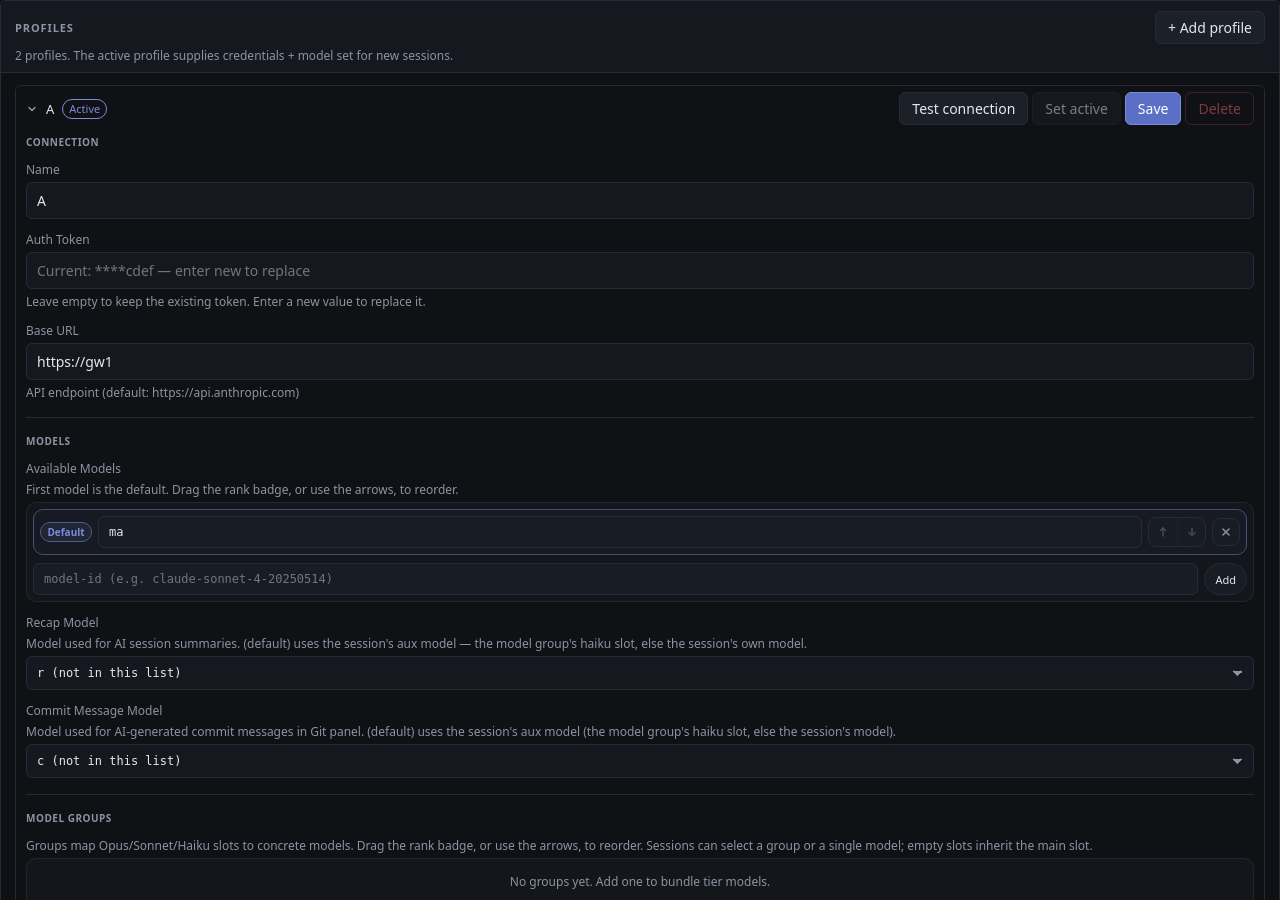
Test: ProfilesSettingsTab › add profile focus › keeps the dialog open with the error on a failed create, so the choice survives for a retry
The width and height of the screenshot is (1280, 900).
Click the button "+ Add profile": (1210,28) [1155,11,1265,44]
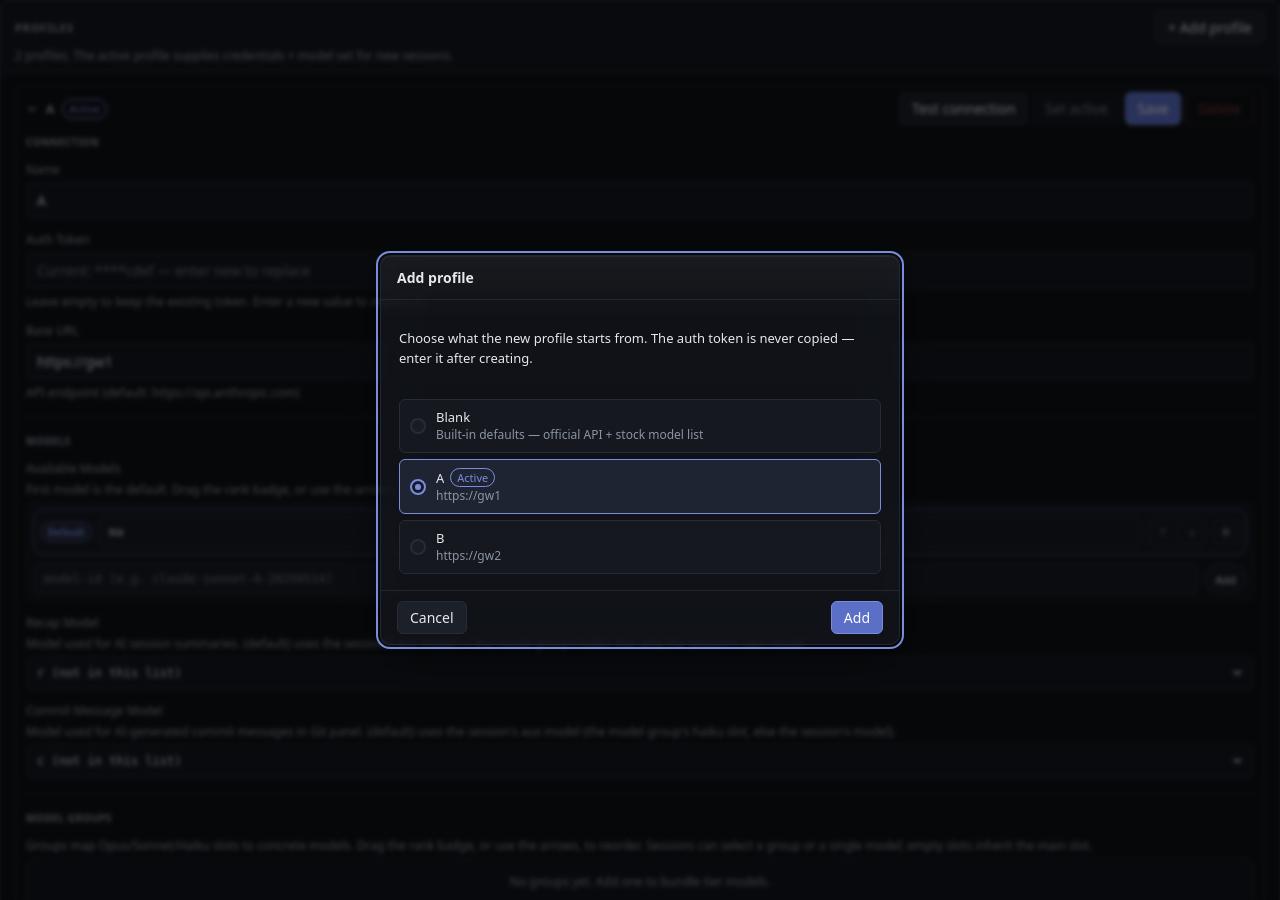
Click the button "Add": (857,618) [831,601,883,634]
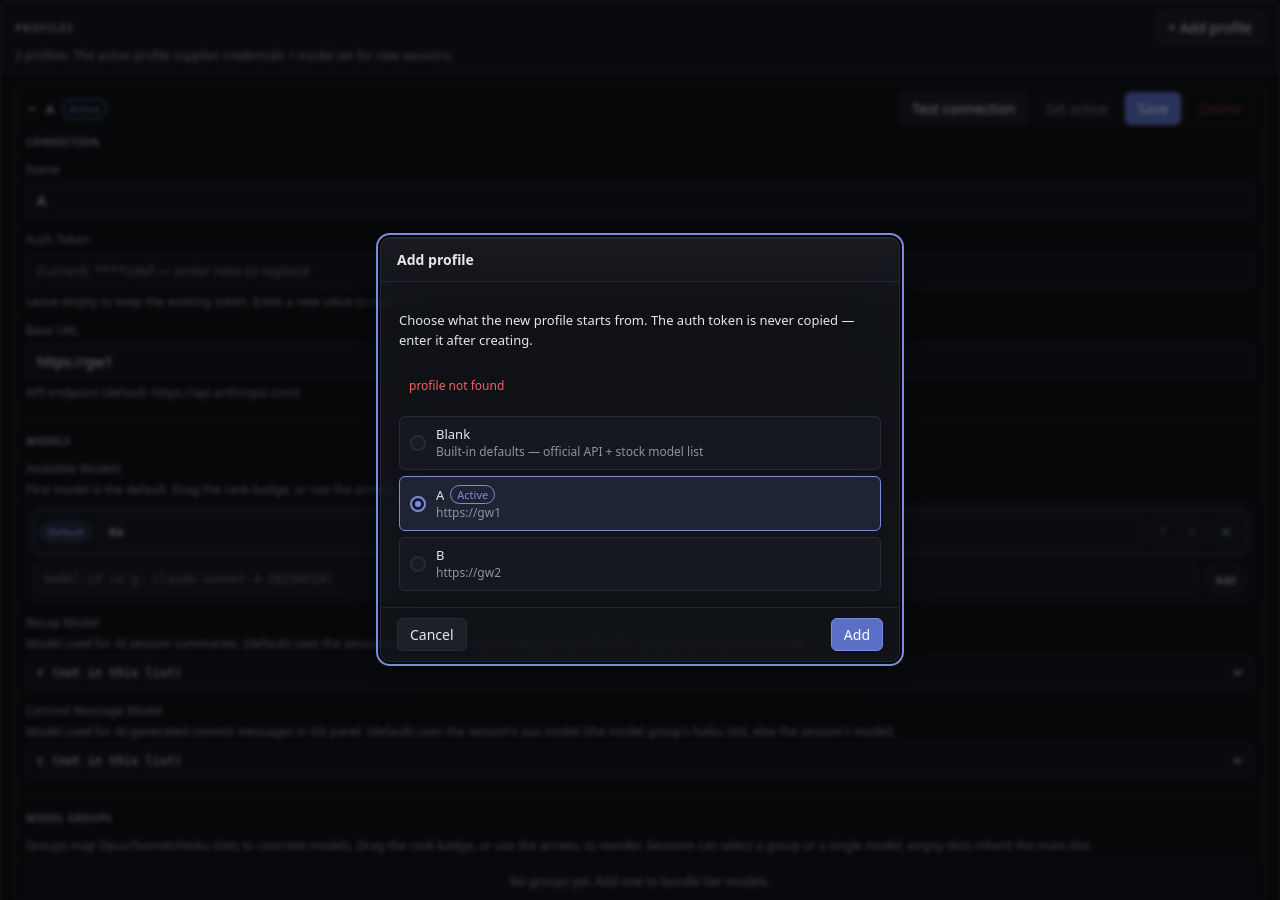
Check: the text "profile not found" is shown, box [399,373,881,398]
